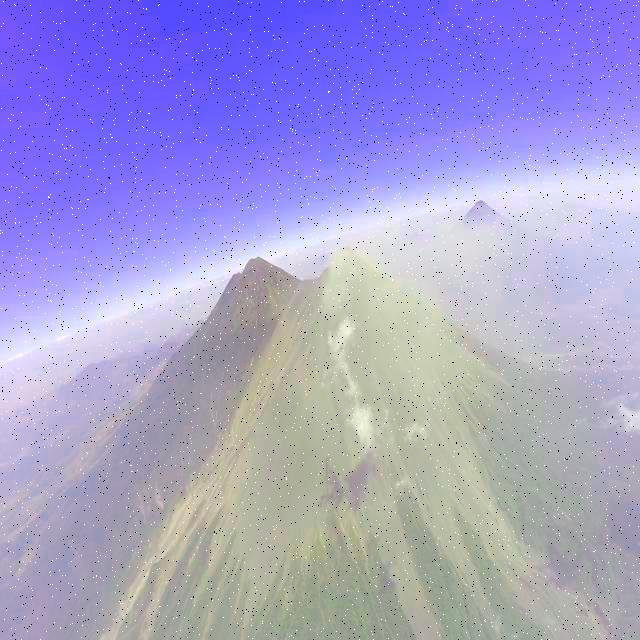Plume: (320, 238, 364, 324)
Summit: (326, 245, 369, 272)
